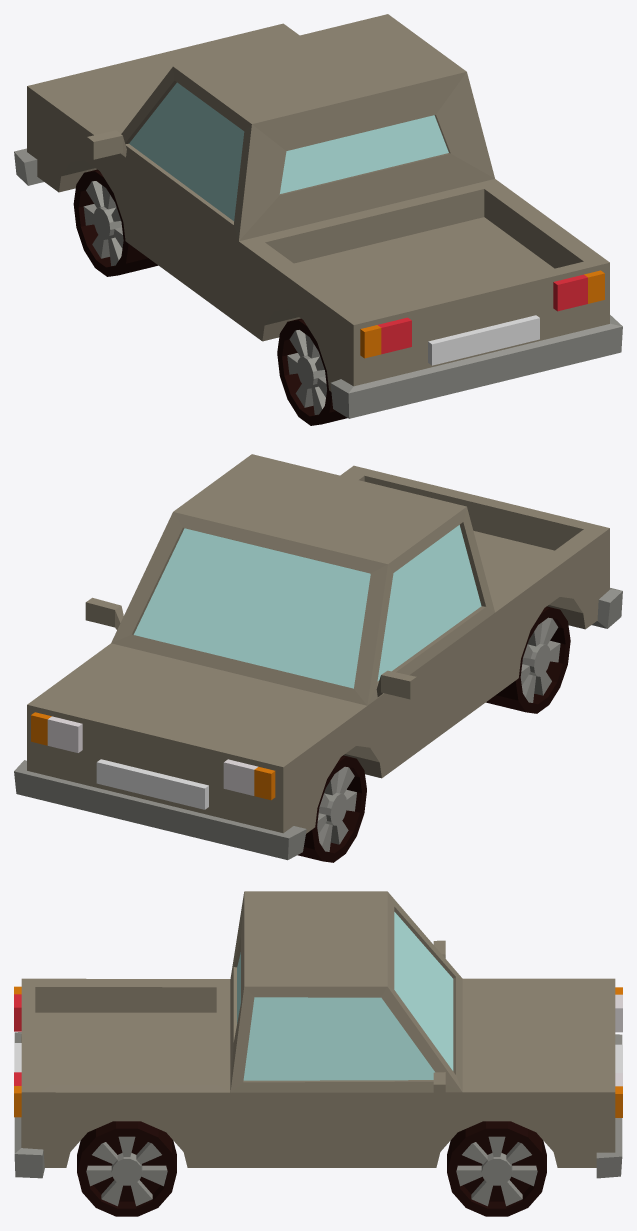
Rendered from Car_020.glb.
The picture shows the model from 3 angles, top to bottom: view 1: azimuth 30°, elevation 25°; view 2: azimuth 150°, elevation 25°; view 3: azimuth 270°, elevation 25°; orthographic projection. The views are drawn at different scales.
Parts seen in each view (by area): view 1: Car_Body, Wheel_FL, Wheel_BL; view 2: Car_Body, Wheel_BL, Wheel_FL; view 3: Car_Body, Wheel_BR, Wheel_FR.
Boxes of the visible parts, box(x1,y1,x2,y2) form: Car_Body: box(14, 14, 622, 418); Wheel_FL: box(73, 169, 158, 276); Wheel_BL: box(277, 318, 347, 425); Car_Body: box(14, 454, 622, 860); Wheel_BL: box(486, 606, 570, 713); Wheel_FL: box(297, 755, 366, 862); Car_Body: box(14, 891, 622, 1178); Wheel_BR: box(77, 1121, 176, 1216); Wheel_FR: box(447, 1121, 546, 1216).
Bounding box in the file's own units: 2.53 × 1.84 × 4.52.
